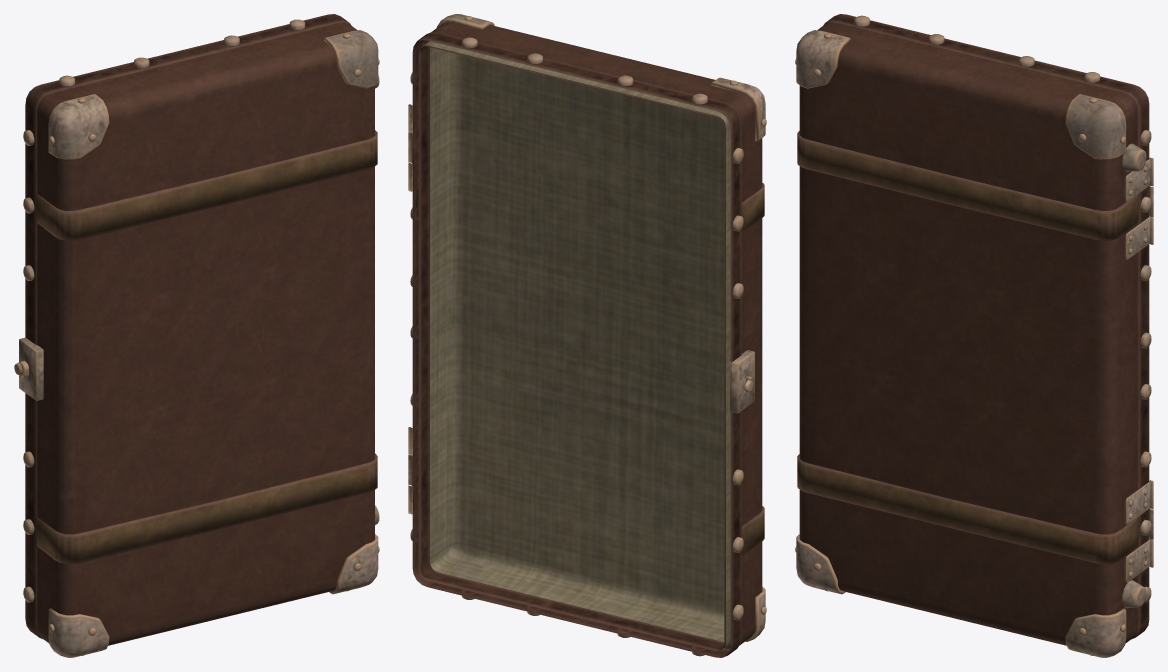
3 views of the same model, side by side, from view 1: azimuth 30°, elevation 25°; view 2: azimuth 150°, elevation 25°; view 3: azimuth 330°, elevation 25° (orthographic).
Parts seen in each view (by area): view 1: suitcase00001.001; view 2: suitcase00001.001; view 3: suitcase00001.001.
Boxes of the visible parts, left/top/right/bottom form: suitcase00001.001: left=14, top=14, right=379, bottom=657; suitcase00001.001: left=408, top=14, right=766, bottom=657; suitcase00001.001: left=795, top=14, right=1153, bottom=657.
Size of the model in its own units: 26.5 by 41.21 by 5.56.
